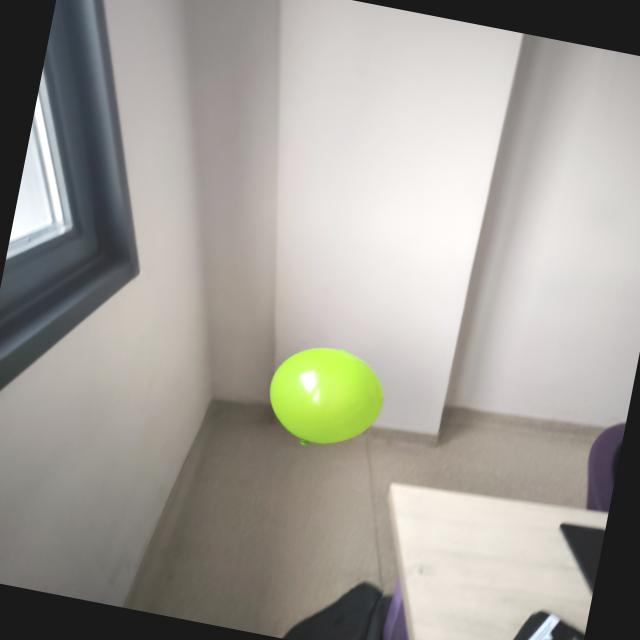balloon: (270, 348, 383, 445)
